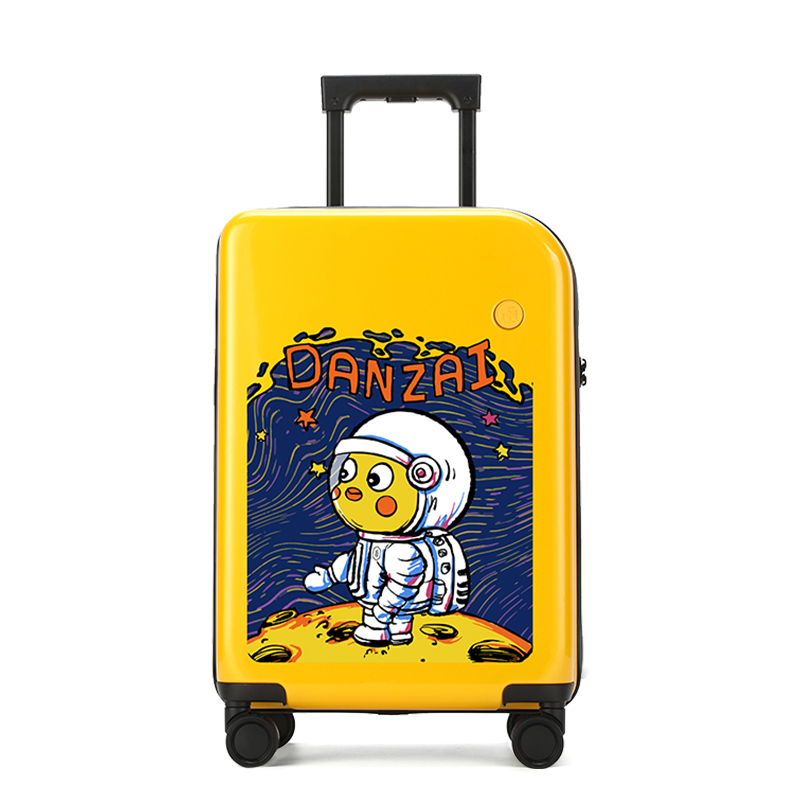box: (214, 208, 582, 713)
wheel: (225, 711, 280, 768), (511, 716, 564, 769)
